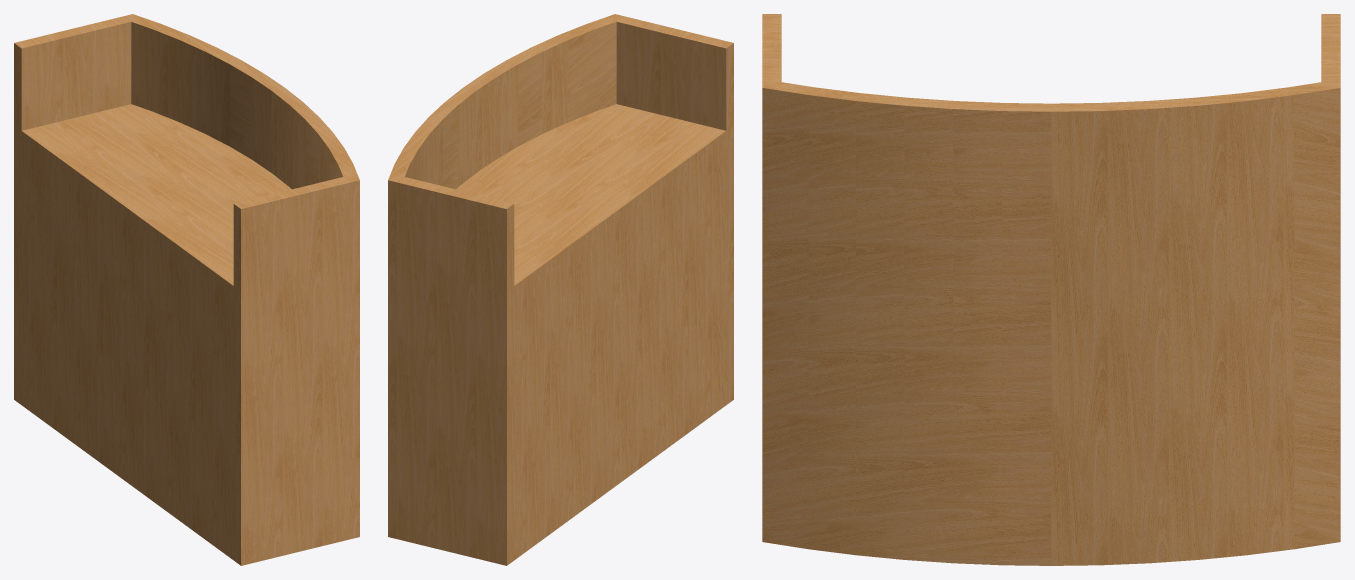
File: furniture-1.glb
3 views of the same model, side by side, from view 1: azimuth 30°, elevation 25°; view 2: azimuth 150°, elevation 25°; view 3: azimuth 270°, elevation 25° (orthographic). The views are drawn at different scales.
Visible parts, largest first — view 1: root; view 2: root; view 3: root.
Boxes of the visible parts, bbox=[...] form: root: bbox=[14, 14, 359, 565]; root: bbox=[388, 14, 733, 565]; root: bbox=[762, 14, 1340, 565].
Bounding box in the file's own units: 0.6 × 1.3 × 1.5.
1 material, 1 textured.
